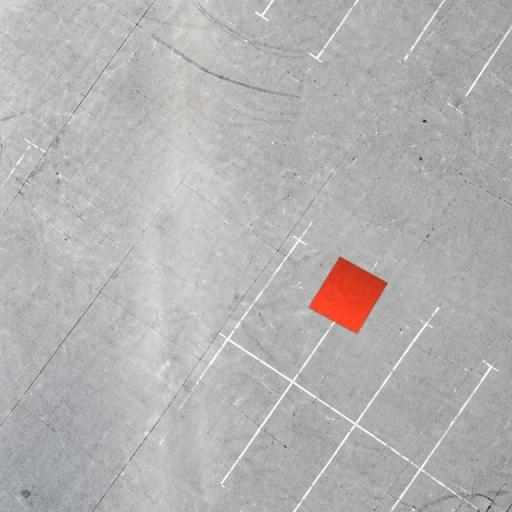RED_SQUARE: (308, 256, 388, 334)
